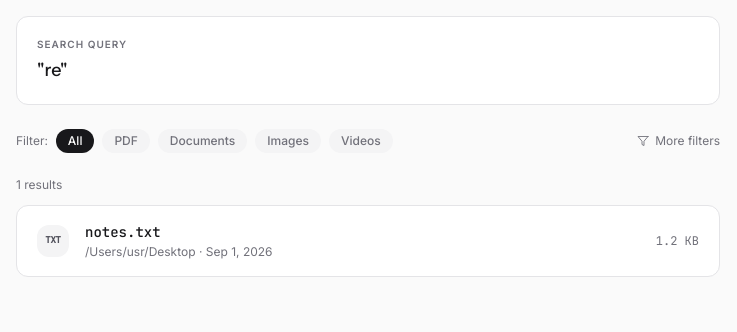
Test: Search › shows the dedicated empty state when nothing matches the active filter
Click the button "Images": (288, 141) [255,129,321,153]
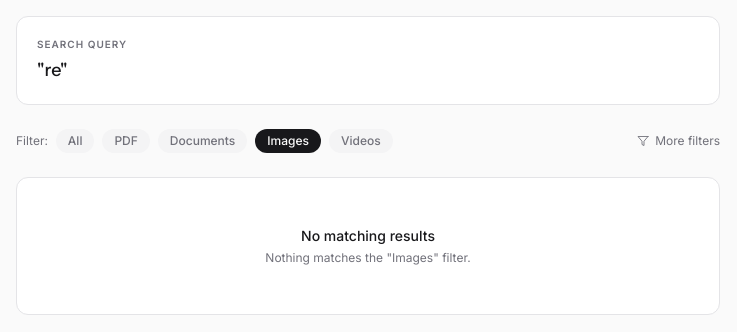
Now the text "No matching results" is shown, box [301,227,435,244]
Now the text "Nothing matches the \"Images\" filter." is shown, box [265,250,471,265]
